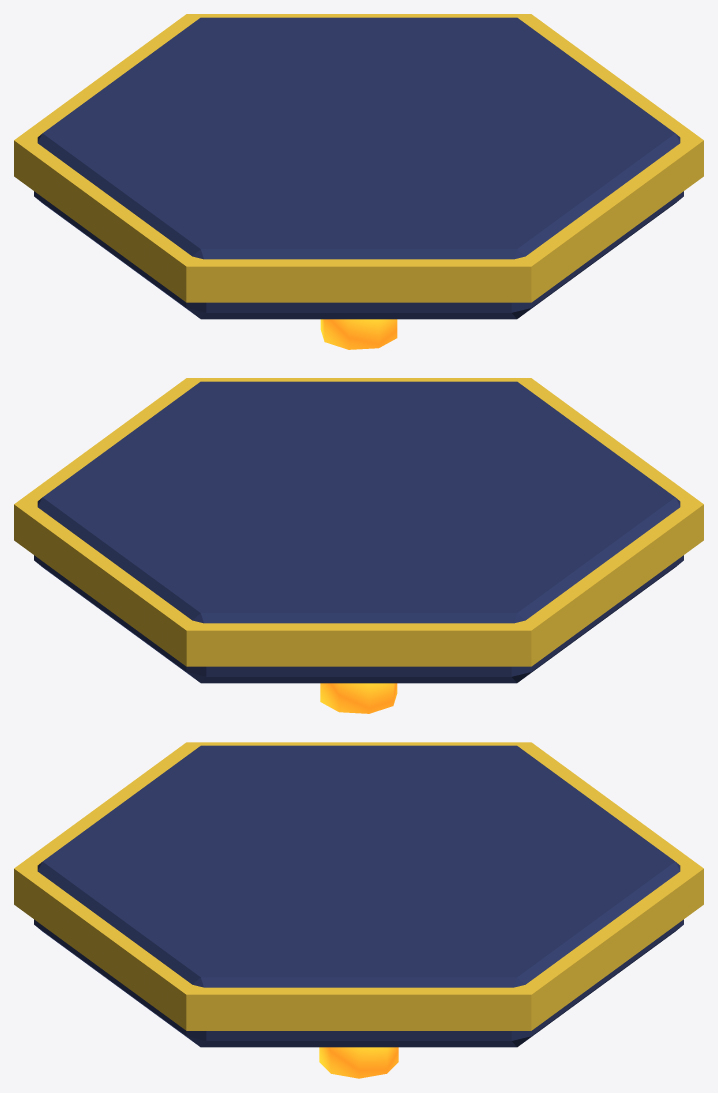
File: obstacle_moving_platform.glb
3 renders of one model, top to bottom at view 1: azimuth 30°, elevation 25°; view 2: azimuth 150°, elevation 25°; view 3: azimuth 270°, elevation 25°, orthographic.
Visible parts, largest first — view 1: Moving_Platform; view 2: Moving_Platform; view 3: Moving_Platform.
Boxes of the visible parts, x1,y1,x2,y2 form: Moving_Platform: (14,14,703,349); Moving_Platform: (14,378,703,713); Moving_Platform: (14,742,703,1078).
Bounding box in the file's own units: 2.7 × 0.58 × 3.12.
